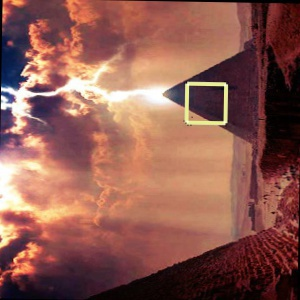square: (184, 80, 229, 127)
